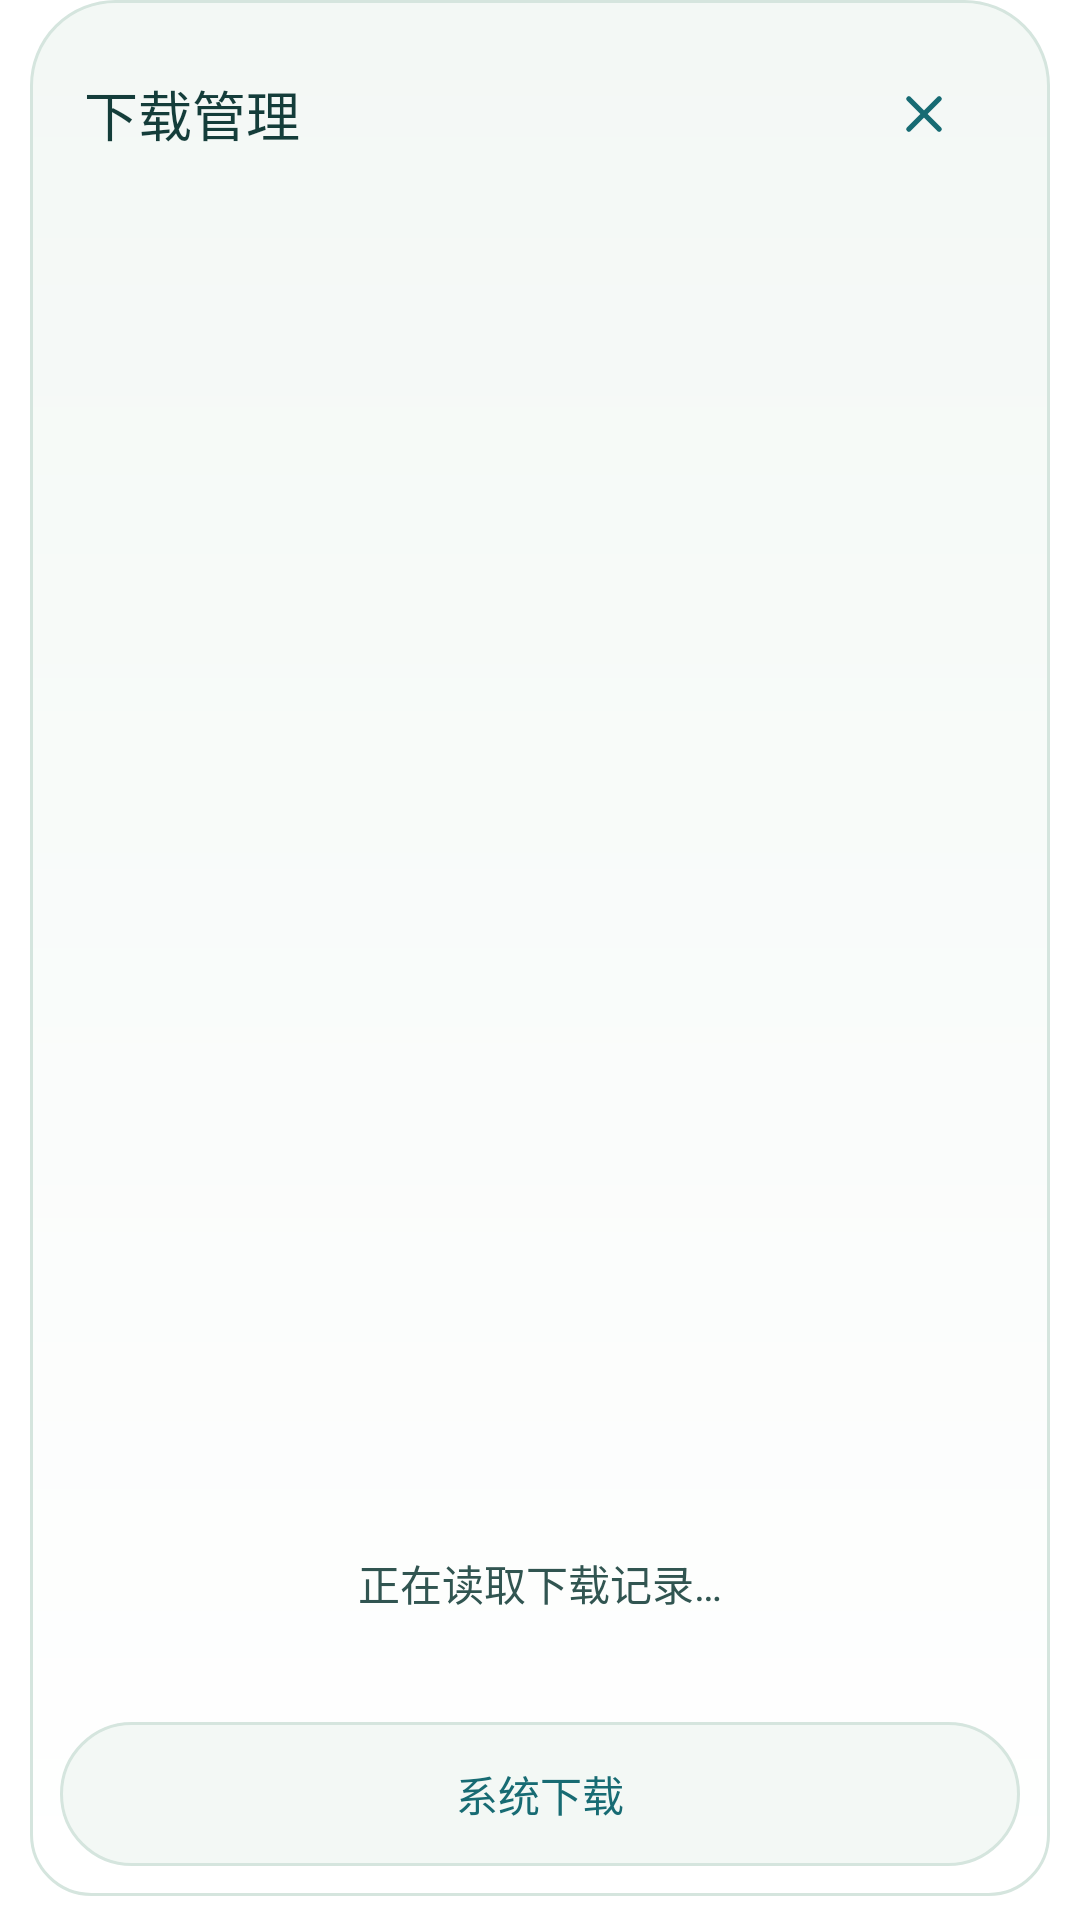

Icon bounding boxes for this 1080×1920 phone screenshot, format bbox=(x1, y1, x2, y2):
close window: bbox=(906, 96, 942, 132)
